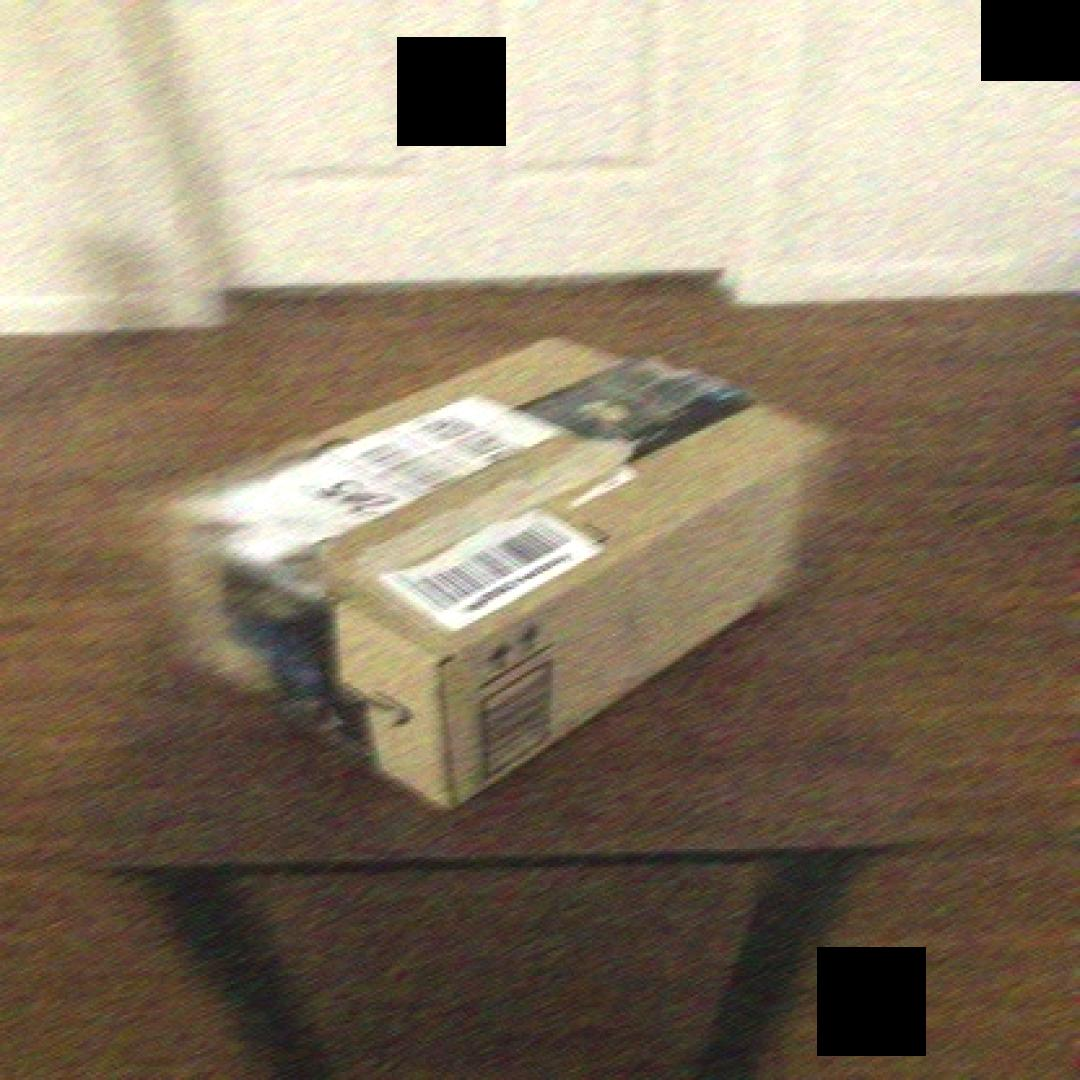package: (150, 327, 844, 820)
